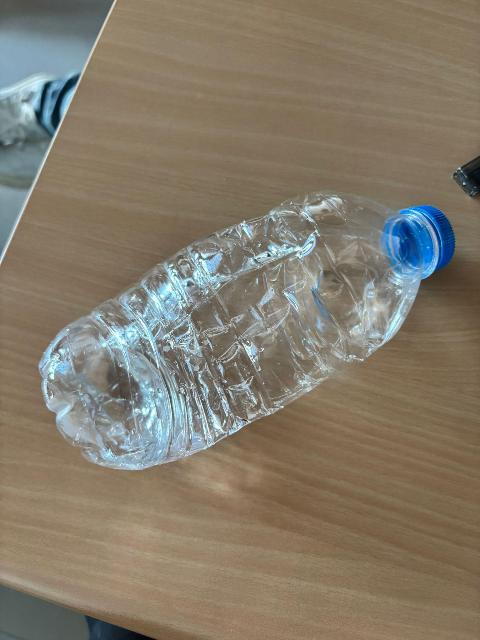Plastik: (44, 189, 458, 464), (394, 202, 453, 272)
